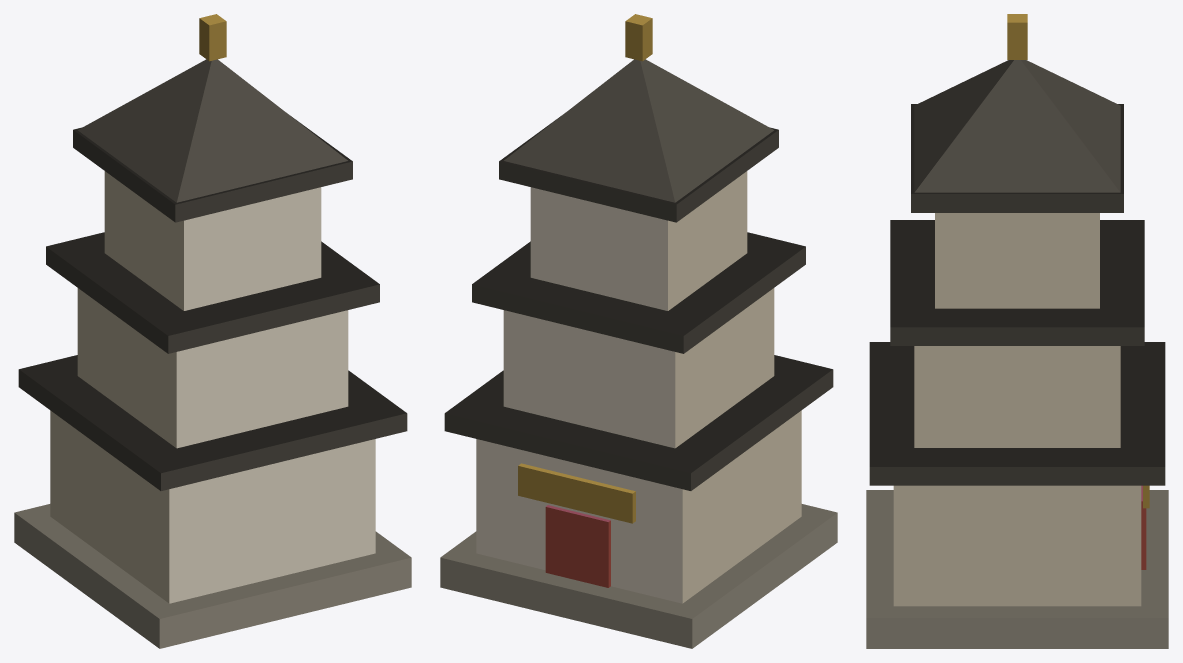
File: bld_scripture.glb
The picture shows the model from 3 angles, left to right: view 1: azimuth 30°, elevation 25°; view 2: azimuth 150°, elevation 25°; view 3: azimuth 270°, elevation 25°; orthographic projection. The views are drawn at different scales.
Parts seen in each view (by area): view 1: bld_scripture; view 2: bld_scripture; view 3: bld_scripture.
Part boxes in pixels (box(x1,y1,x2,y2)): bld_scripture: box(14, 14, 411, 648); bld_scripture: box(440, 14, 837, 648); bld_scripture: box(866, 14, 1168, 648).
Size of the model in its own units: 0.88 by 1.82 by 0.88.
1 material, 1 textured.
